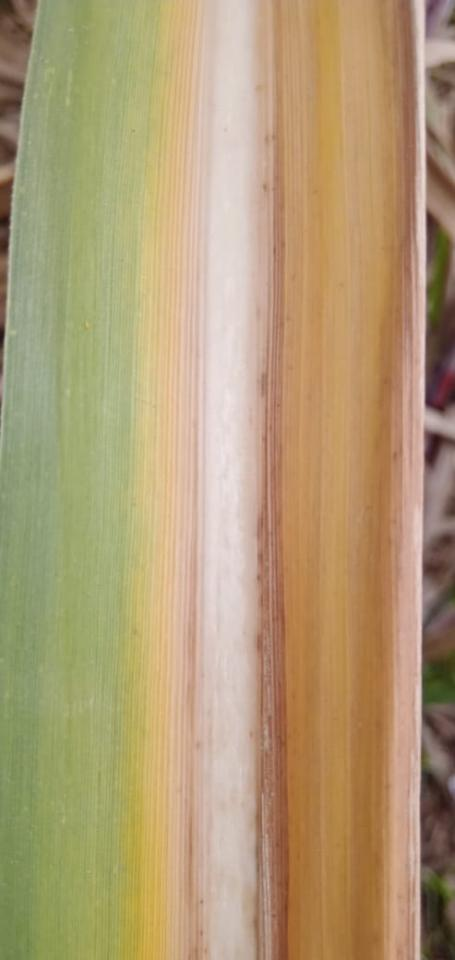Yellow: (259, 0, 427, 959), (138, 0, 200, 959)
